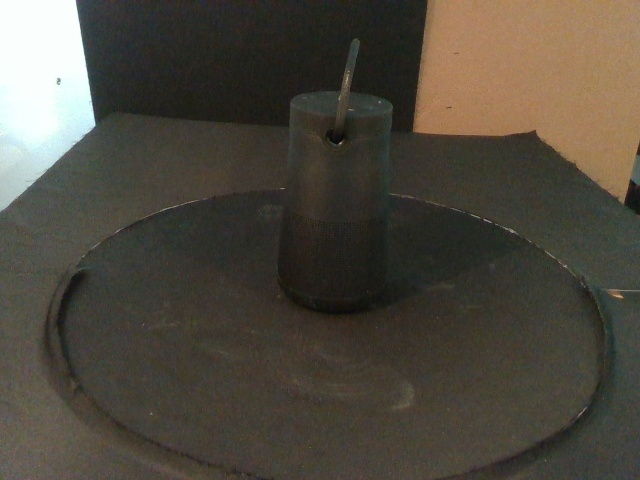speaker: (275, 89, 393, 316)
